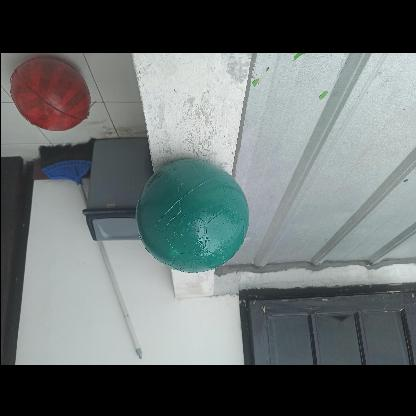green_ball: (136, 160, 250, 272)
